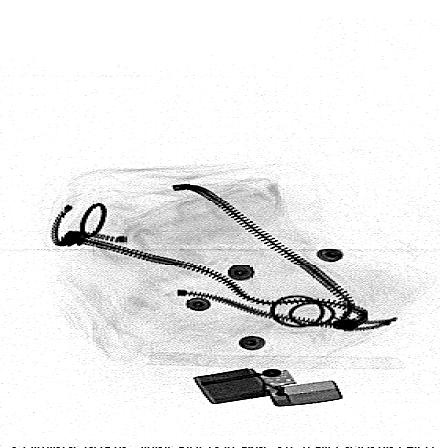Lighter: (192, 367, 346, 407)
